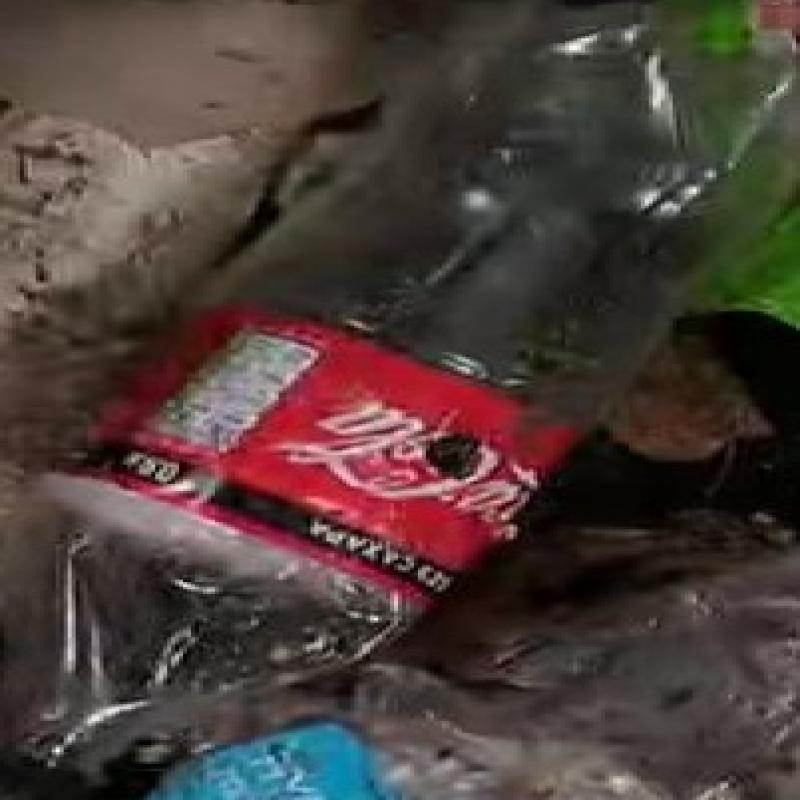botella: (36, 0, 800, 800)
